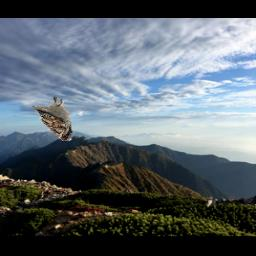Sparrow: (33, 95, 72, 141)
